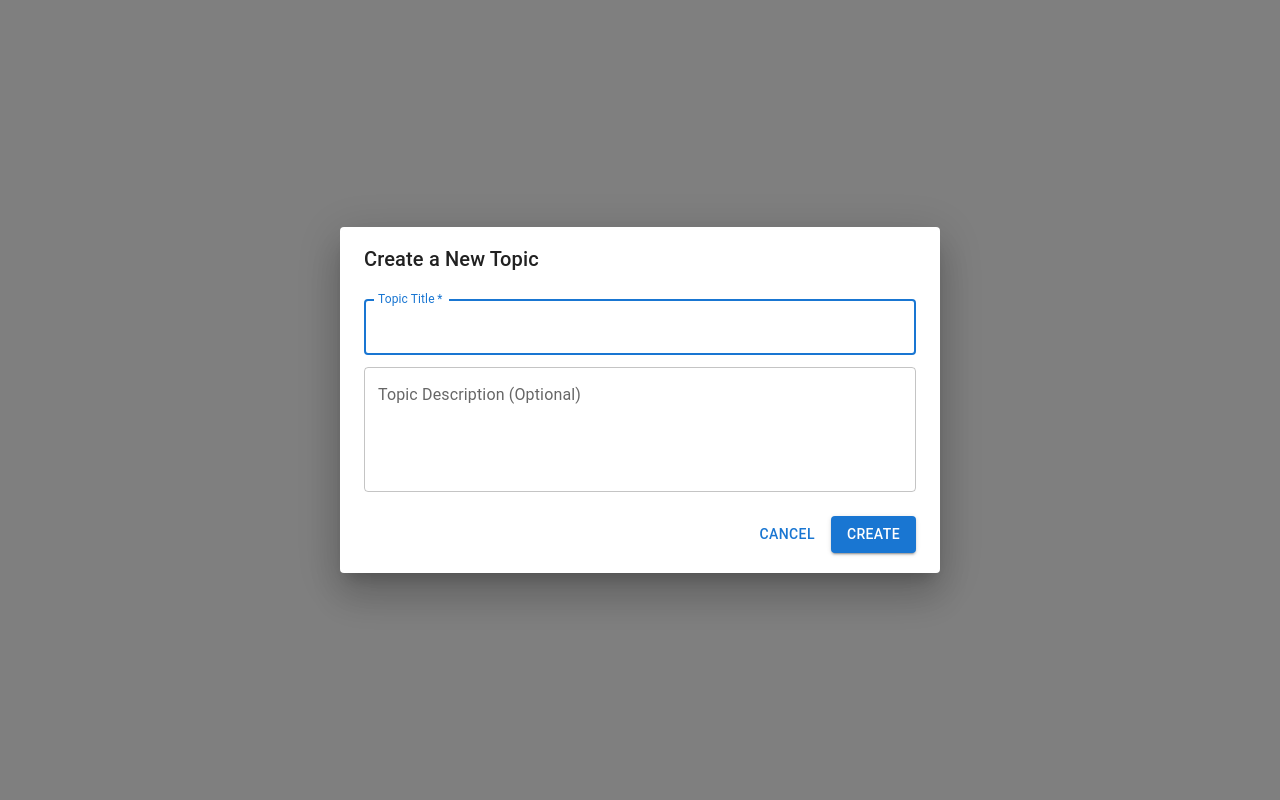
Test case: CreateTopicModal › shows error when API returns non-201 response
Type "Bad Topic" into the field with test id "title-input" at (640, 327), box x1=364 y1=299 x2=916 y2=355
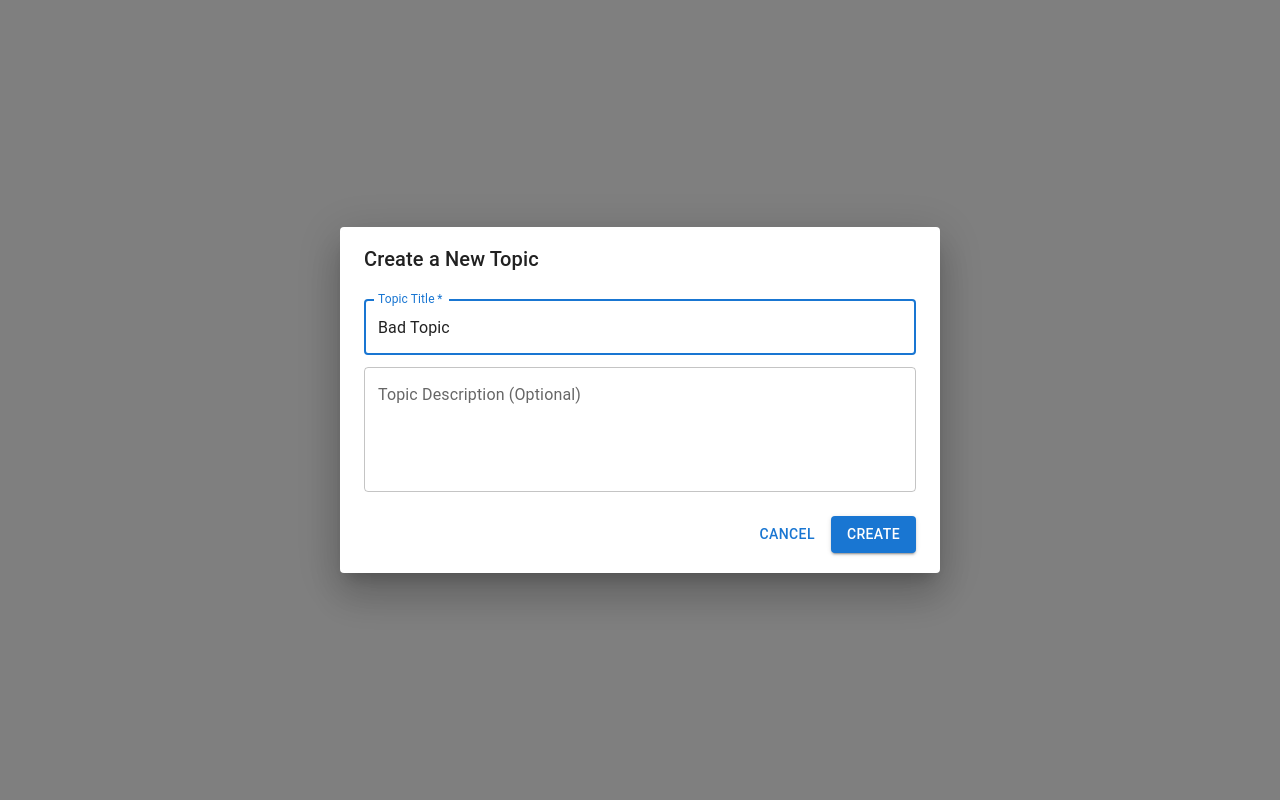
Click the button with test id "create-button" at (873, 535), box x1=831 y1=516 x2=916 y2=553
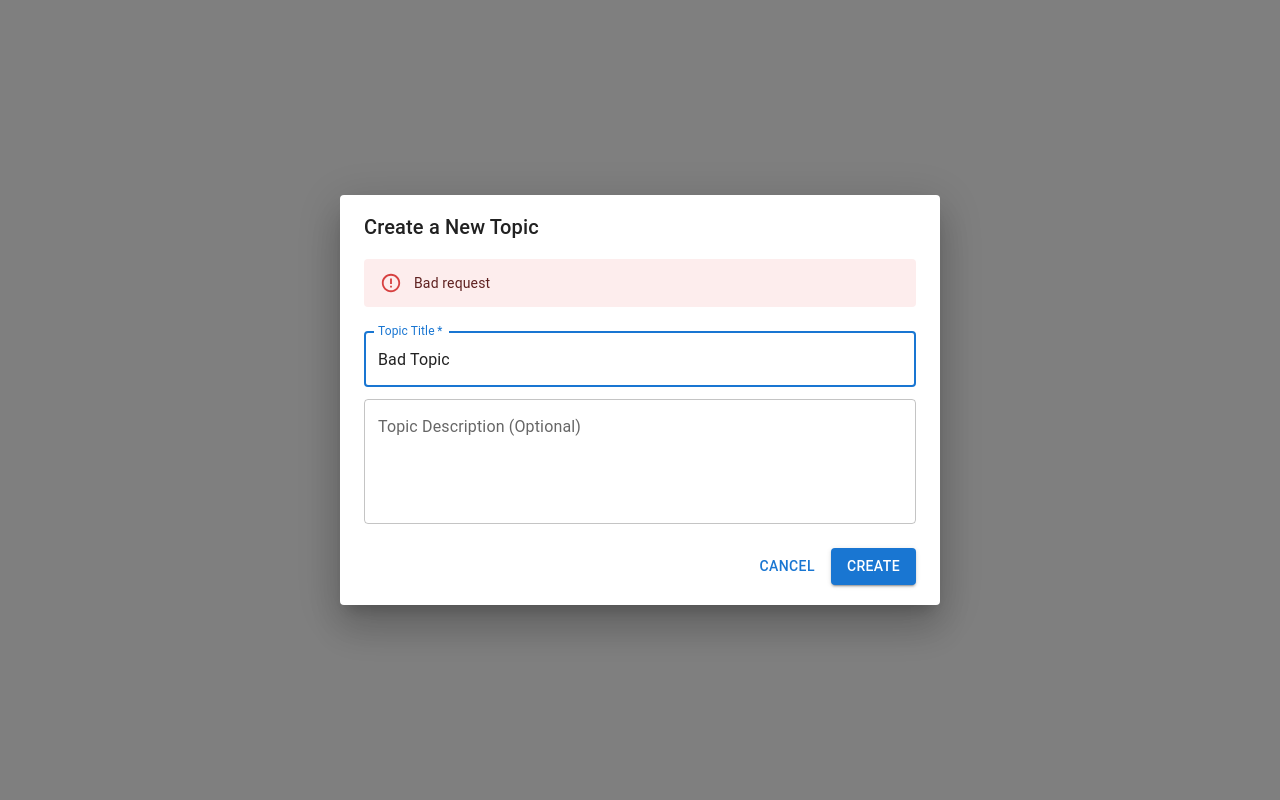
Check: the message with test id "error-message" reads "Bad request", box x1=414 y1=275 x2=490 y2=291
